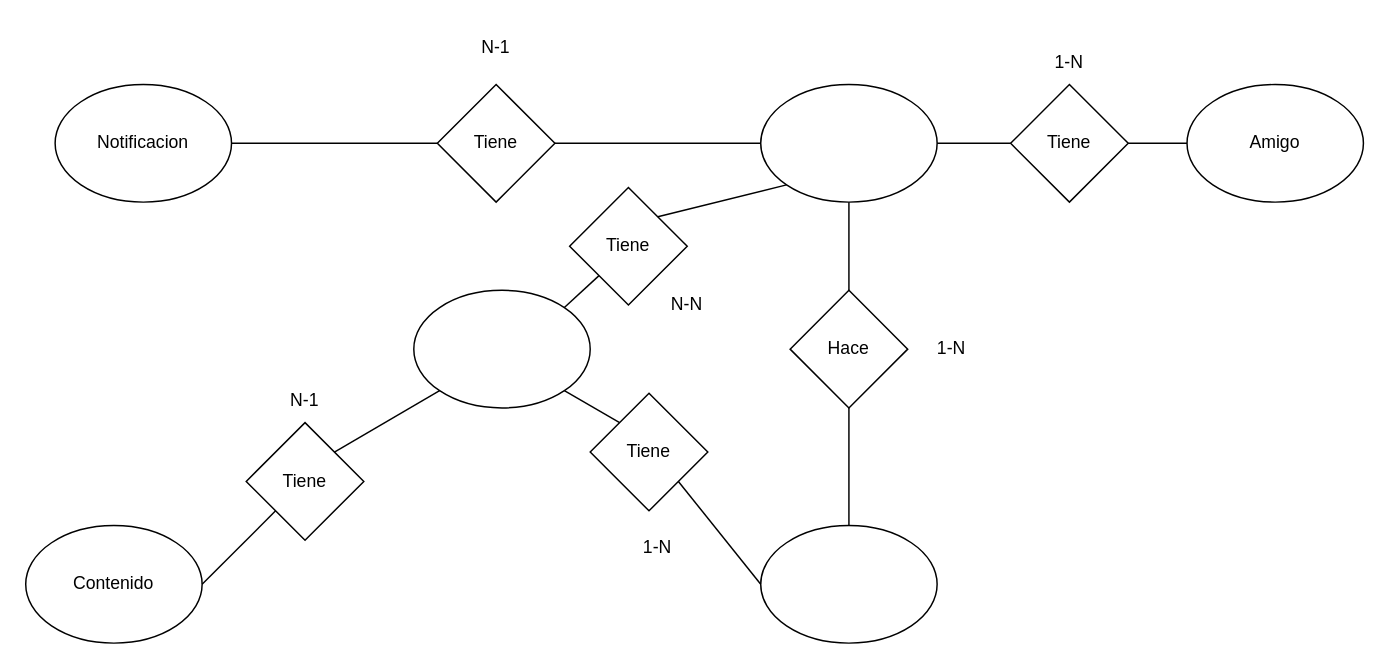
This 1389x669 diagram has some shape labels left out. The centre of each missing label's shape, as x and y in pixels:
Capsula: point 501,348
Comentario: point 848,583
Usuario: point 848,142
